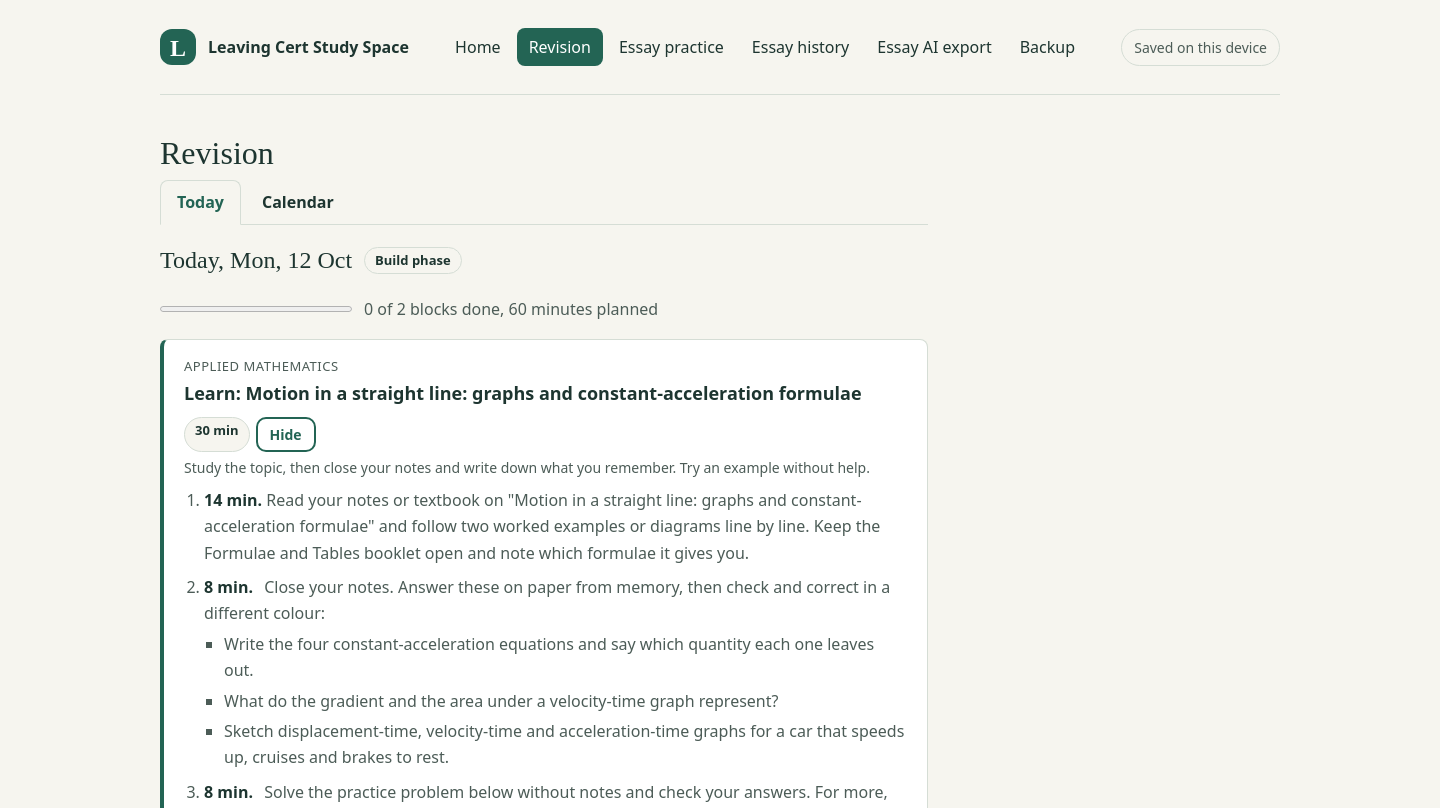
Revision page: plan › keeps the calendar off the study page and the steps off the calendar page
Expected: the heading "Today, Mon, 12 Oct" is shown, [160, 241, 352, 280]
Expected: the heading "Full plan by week" is not shown
Click the link "Calendar".
click(298, 202)  # box [262, 191, 334, 213]
(page scrolled)
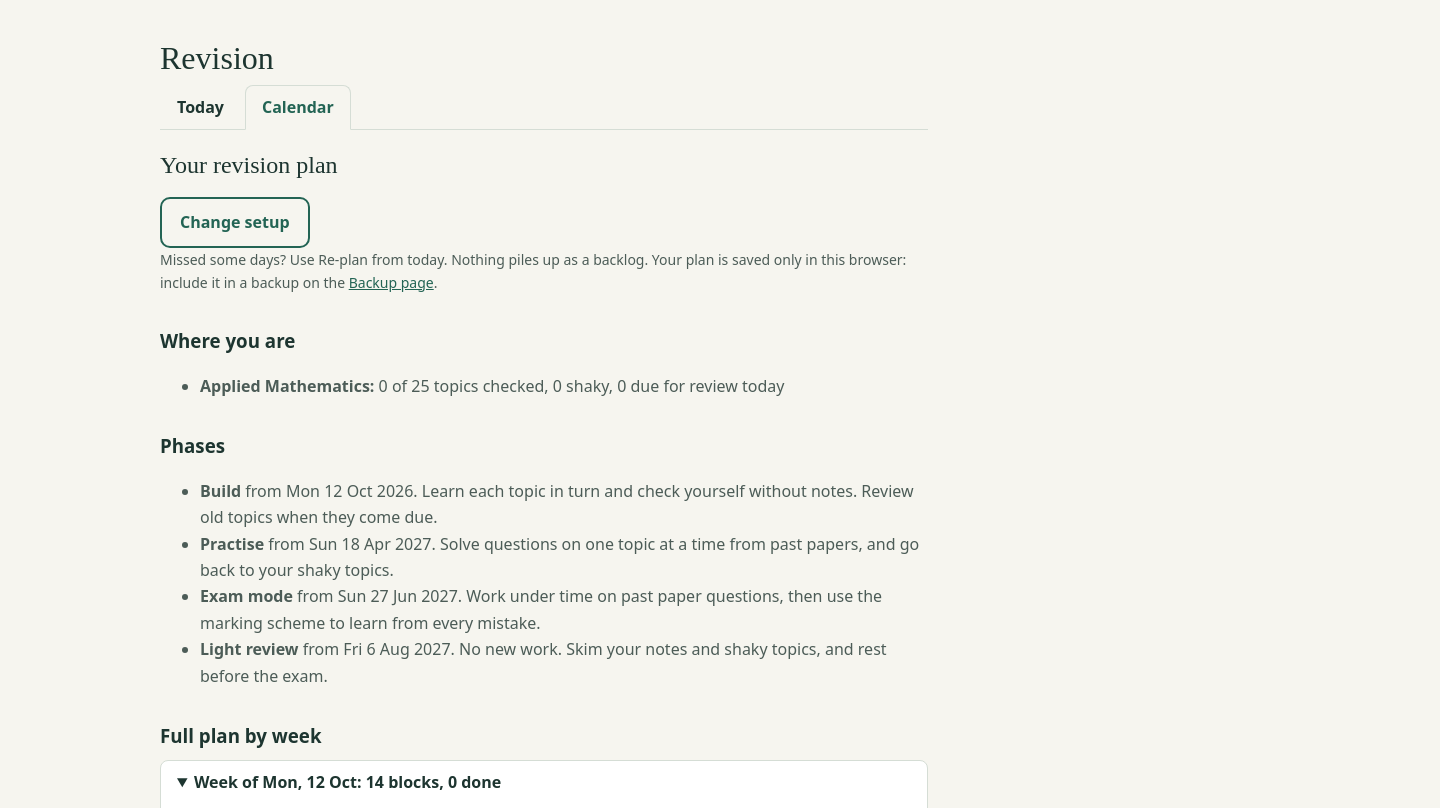
Expected: the heading "Full plan by week" is shown, [160, 723, 322, 748]
Expected: the heading "Today," is gone
